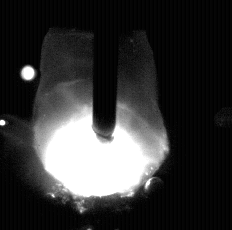arame: (93, 0, 118, 143)
poca: (32, 0, 169, 230)
